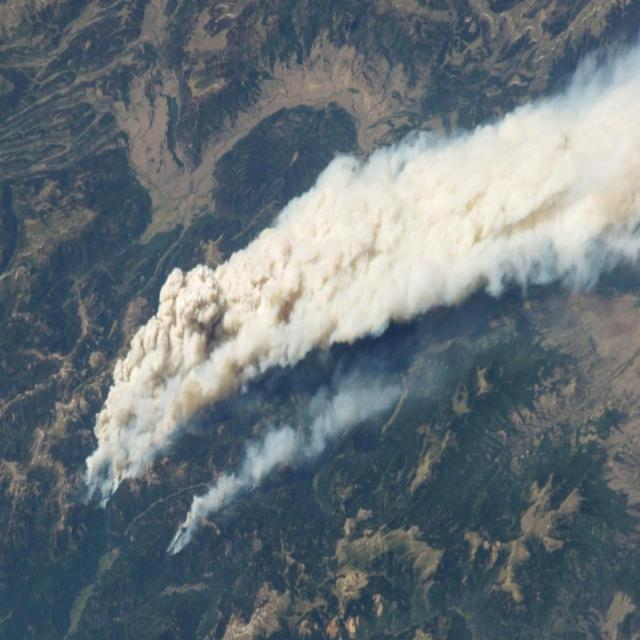methane: (85, 45, 640, 503), (171, 379, 401, 553)
